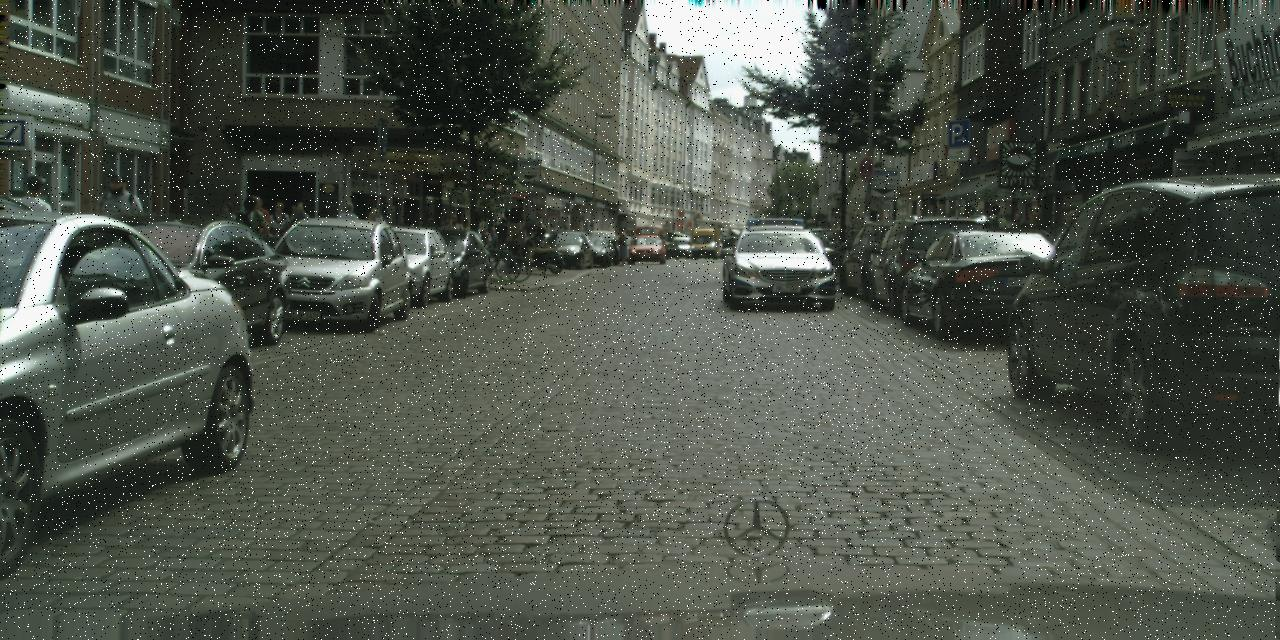ped: (94, 173, 140, 285), (8, 174, 54, 286), (1053, 210, 1085, 289), (234, 196, 264, 270), (1018, 207, 1047, 276), (242, 196, 270, 267), (333, 200, 361, 270), (265, 201, 291, 266), (982, 204, 1008, 268), (1003, 210, 1029, 274), (362, 207, 387, 267), (217, 202, 240, 259), (290, 202, 311, 253), (833, 224, 851, 268), (285, 205, 303, 249), (446, 217, 464, 260), (494, 216, 511, 260), (458, 218, 473, 258), (614, 226, 629, 265), (484, 226, 497, 258), (544, 223, 556, 253), (479, 228, 492, 246), (721, 238, 730, 258)
